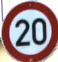20 km speed: (1, 1, 58, 61)
